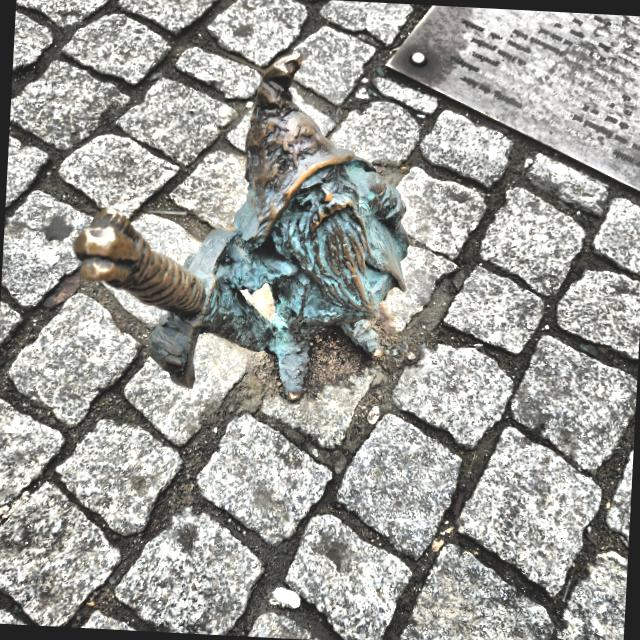Giermek_Grun-Waldek: (72, 55, 412, 403)
